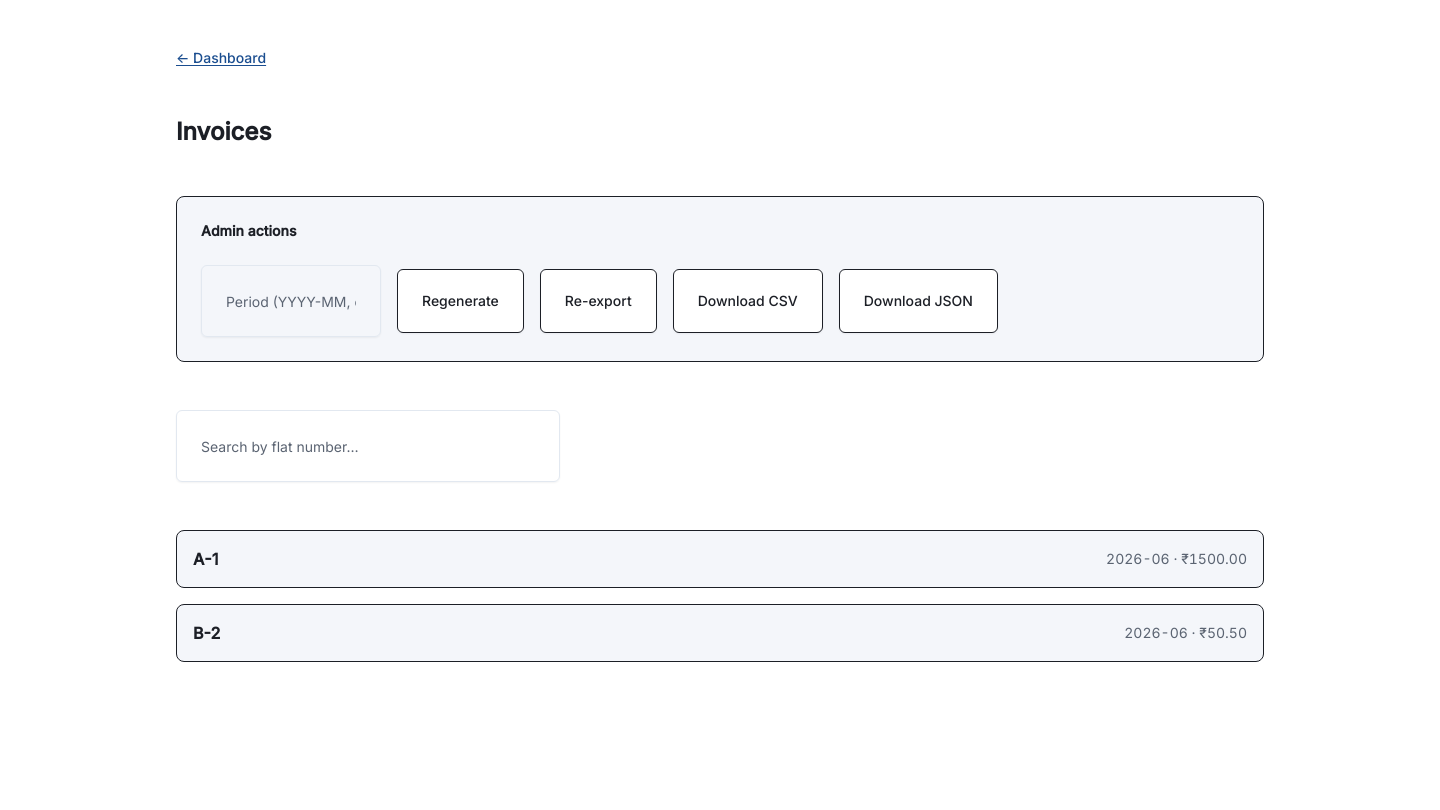
Test case: TenantInvoices › selecting a flat's row (15.4c) › collapses the detail when the same row is clicked again
The width and height of the screenshot is (1440, 810).
Click the button "A-1 2026-06 · ₹1500.00". click: (1138,558)
box: [176,530,1264,588]
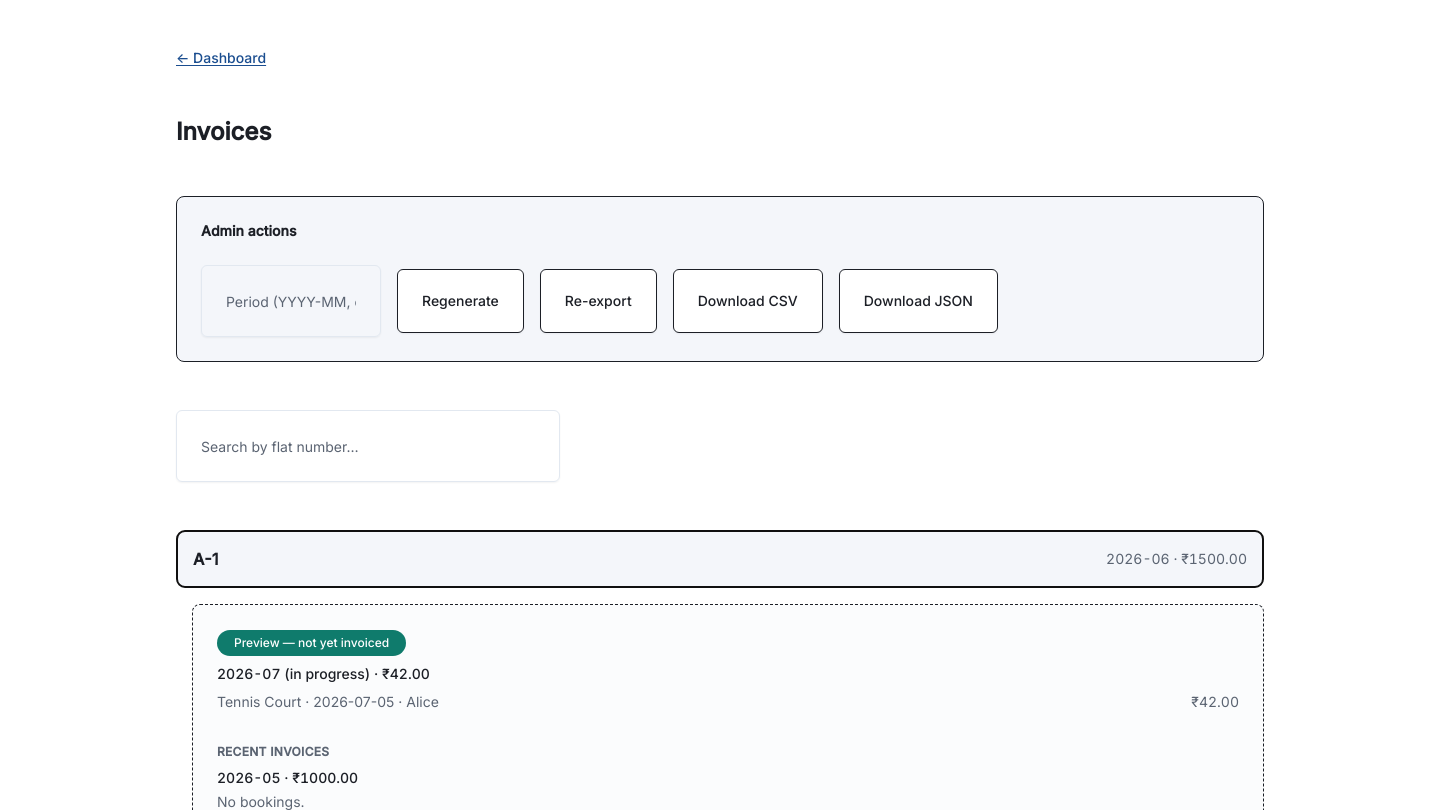
Now the text "Preview — not yet invoiced" is shown, box [217,630,406,656]
Click the button "A-1 2026-06 · ₹1500.00". click: (1138,558)
box: [176,530,1264,588]
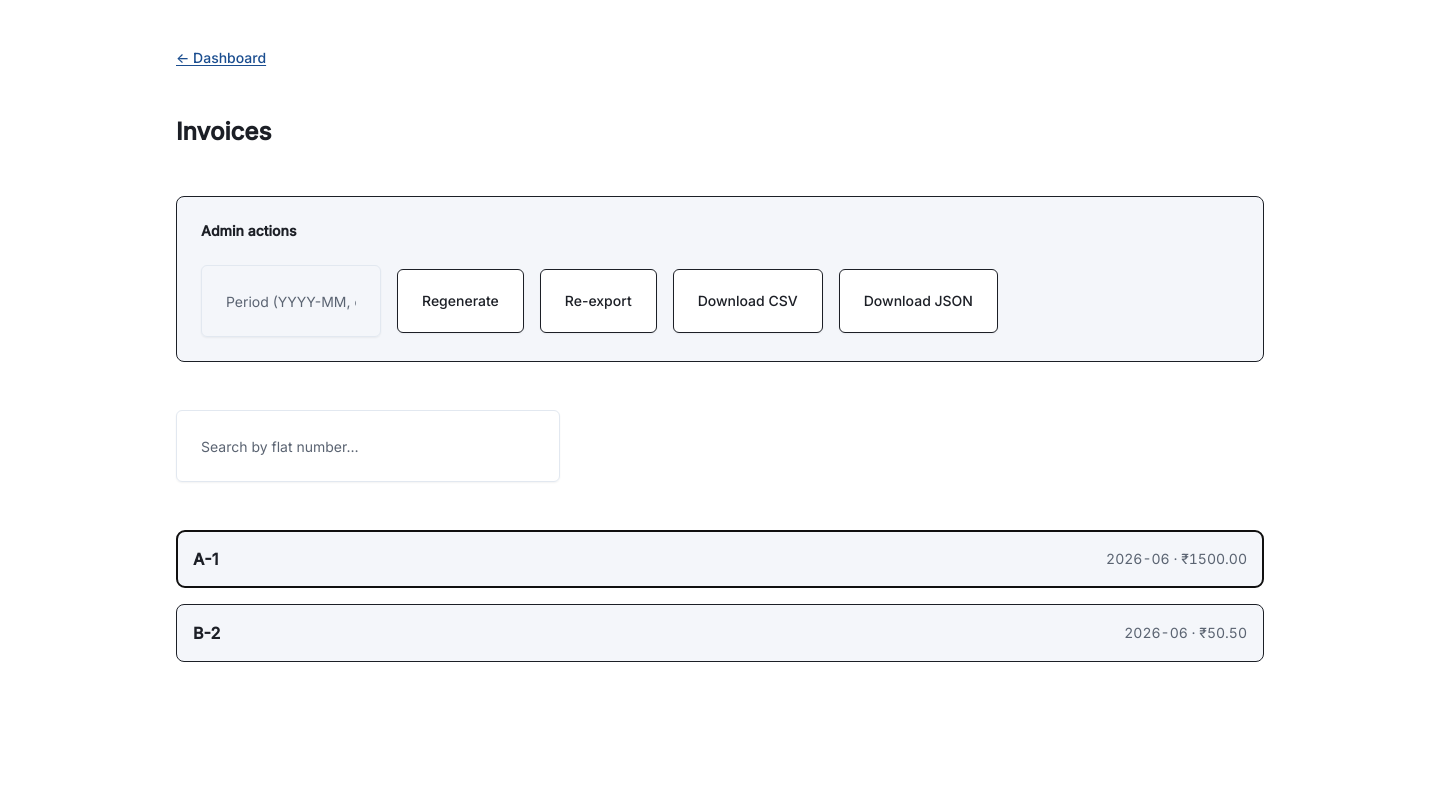
Now the text "Preview — not yet invoiced" is gone
